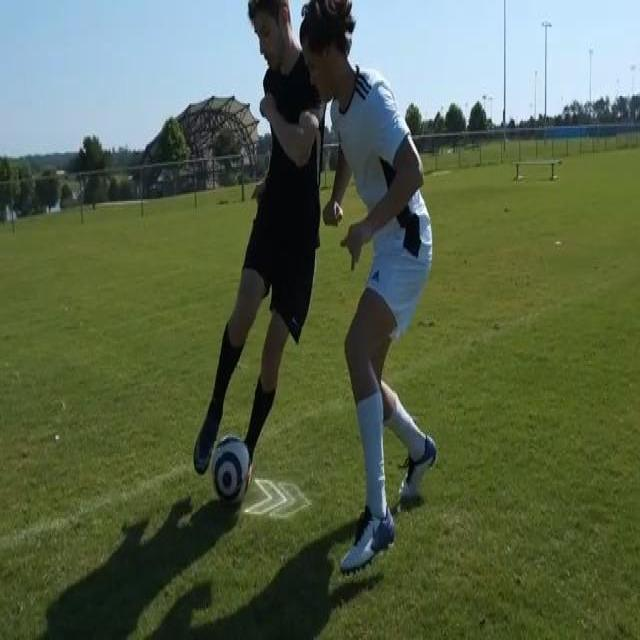Soccer Ball: (212, 432, 252, 508)
